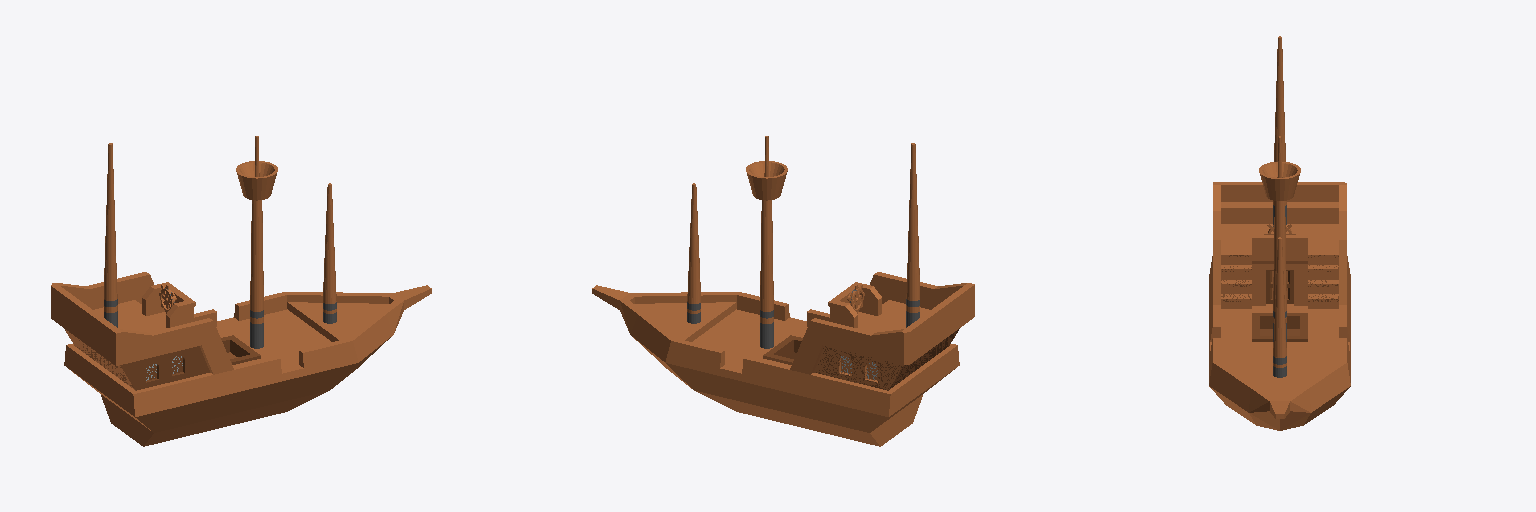
The model's file is ship.obj.
The picture shows the model from 3 angles: view 1: azimuth 30°, elevation 25°; view 2: azimuth 150°, elevation 25°; view 3: azimuth 270°, elevation 25°; orthographic projection.
Visible parts, largest first — view 1: ship_dark_8angles; view 2: ship_dark_8angles; view 3: ship_dark_8angles.
Part boxes in pixels (x1,y1,x2,y2): ship_dark_8angles: (51, 136, 431, 446); ship_dark_8angles: (592, 136, 974, 446); ship_dark_8angles: (1209, 36, 1350, 430).
Size of the model in its own units: 8.05 by 6.55 by 2.85.